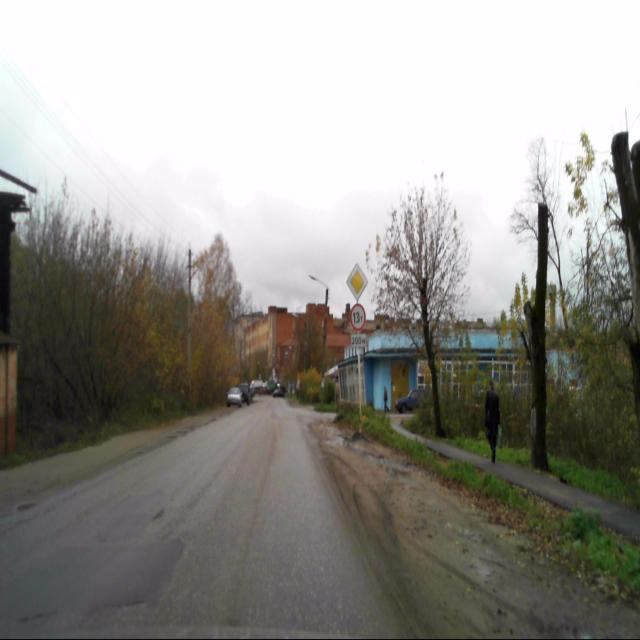road sign: (346, 261, 368, 301)
